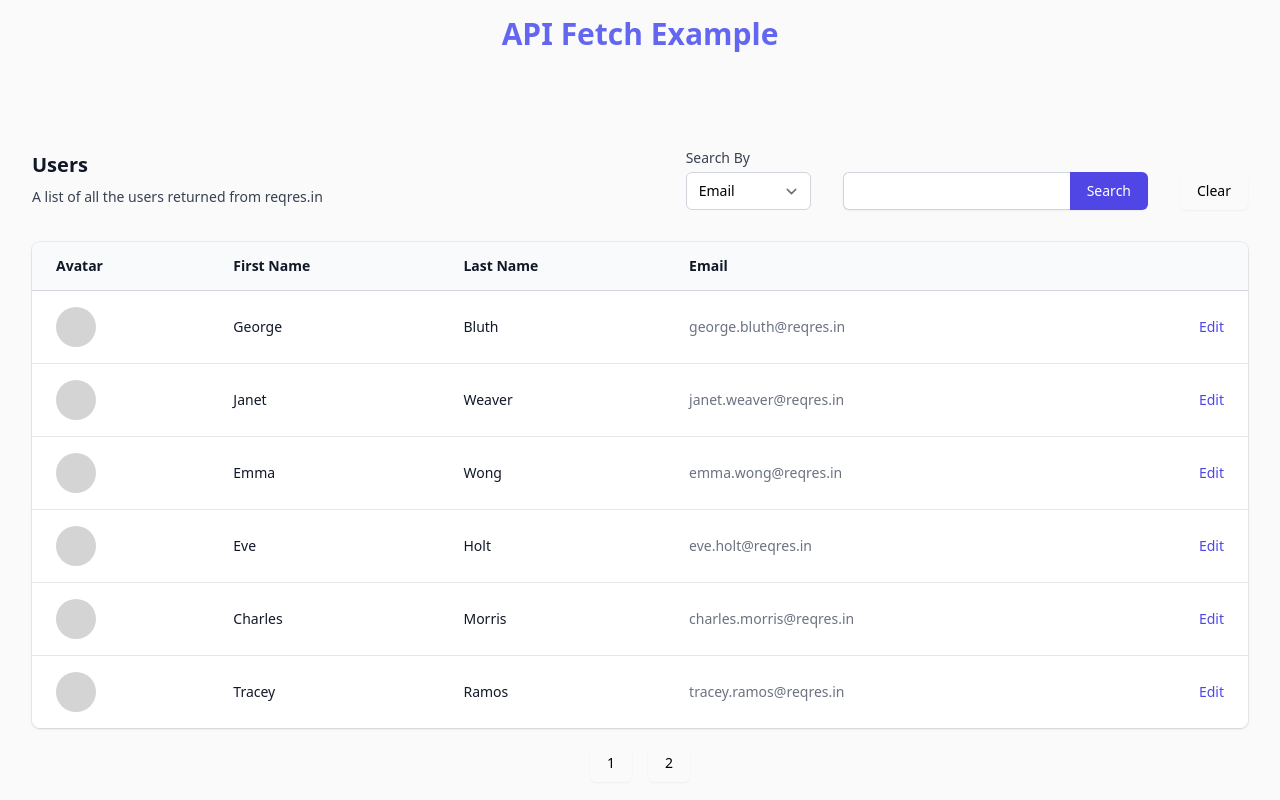
it: should show only the valid search result when searching via last name
// change option to search by last_name
Select "Last Name" in the dropdown with test id "searchType" at coordinates (748, 191), box [686,172,811,210]
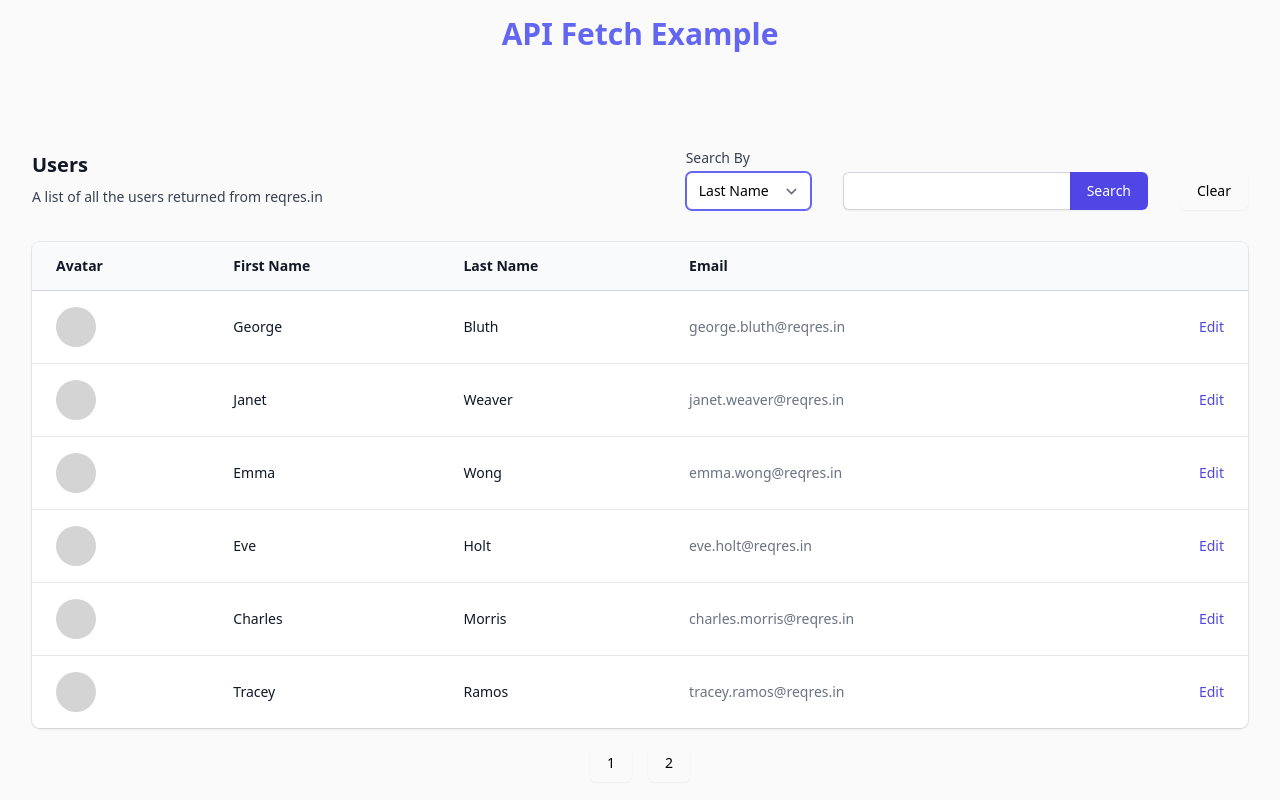
// onfirm that value has been entered correctly.
Type "holt" into the field with test id "searchInput" at coordinates (956, 191), box [843,172,1070,210]
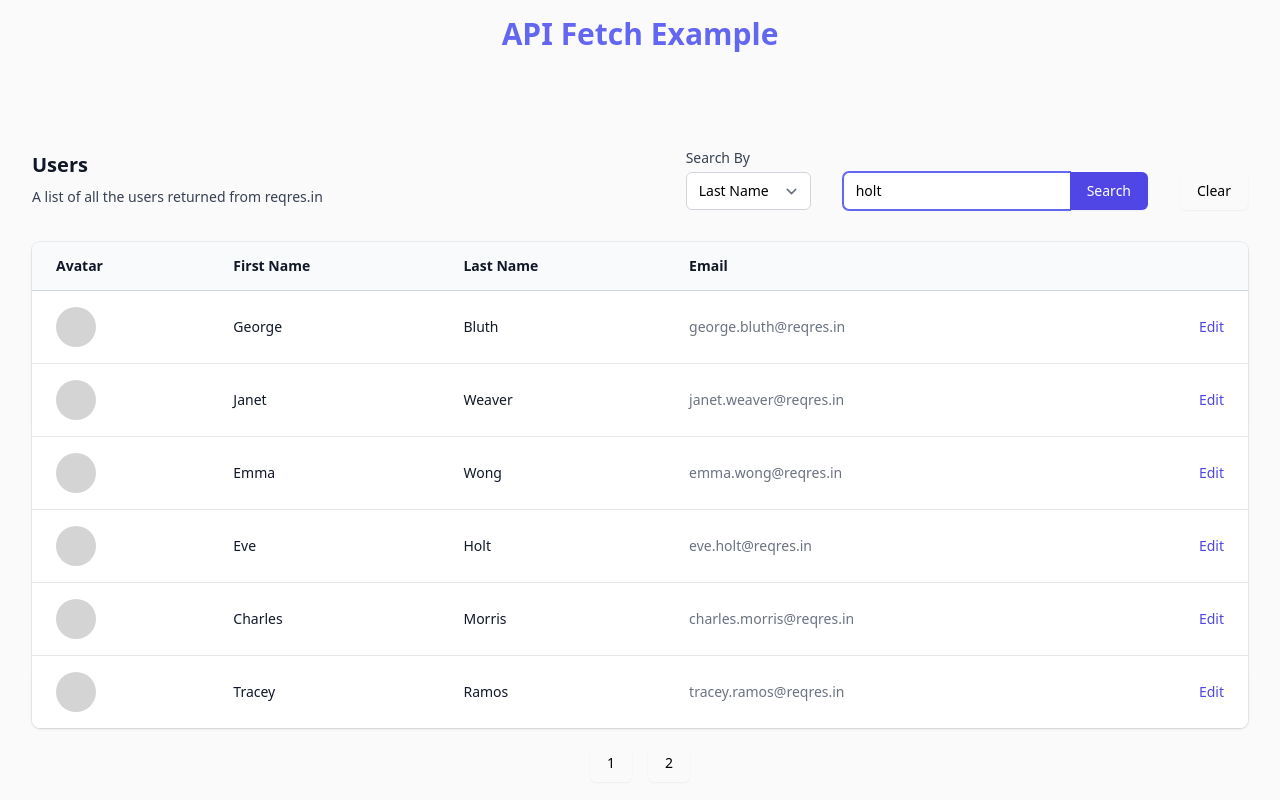
// click search button
Click the button "Search" at coordinates (1109, 191), box [1070,172,1148,210]
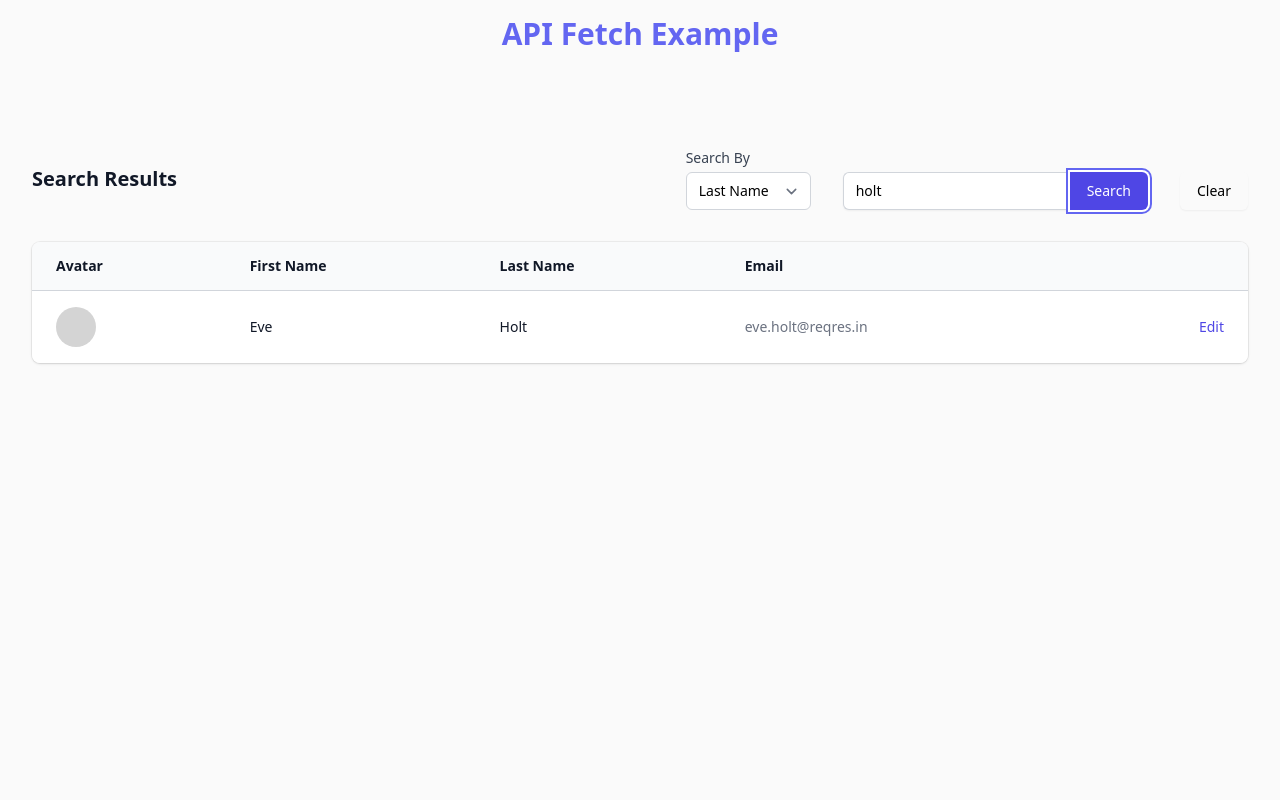
Expected: the heading "Search Results" is shown, [32,165,177,192]
Expected: the text "Bluth" is gone
Expected: the text "Weaver" is gone
